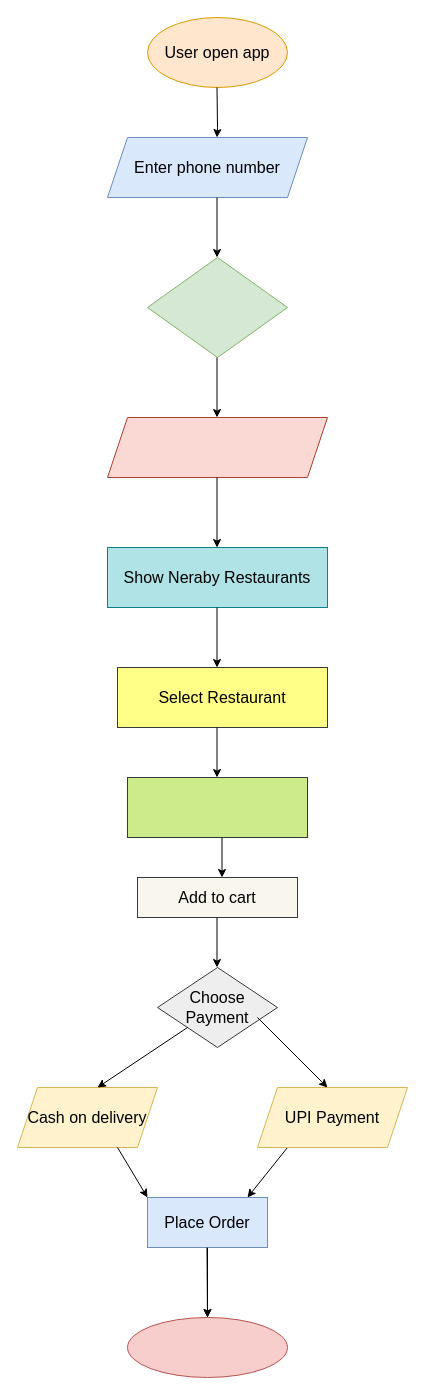
The diagram is 425 pixels wide and 1395 high, and some of its shapes have lost their labels. The centre of each missing label's shape, as x and y in pixels:
Enter Address: pixel 217 447
Order Confirmed: pixel 207 1347
Show Menu: pixel 217 807
Verify OTP: pixel 217 307
